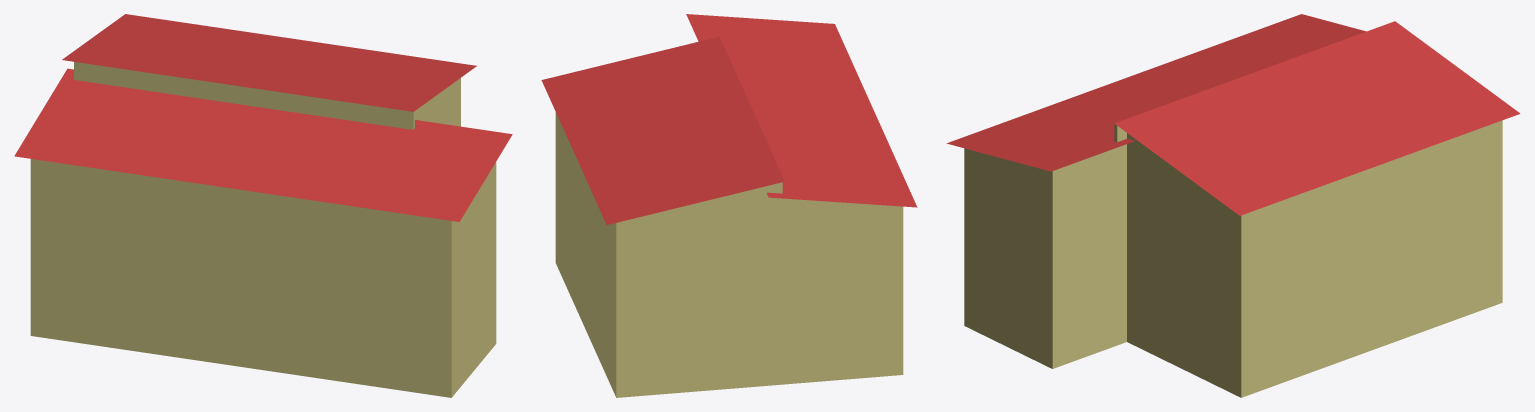
3 views of the same model, side by side, from view 1: azimuth 30°, elevation 25°; view 2: azimuth 150°, elevation 25°; view 3: azimuth 270°, elevation 25° (orthographic). The views are drawn at different scales.
Bounding box in the file's own units: 19.27 × 22.3 × 9.45.
